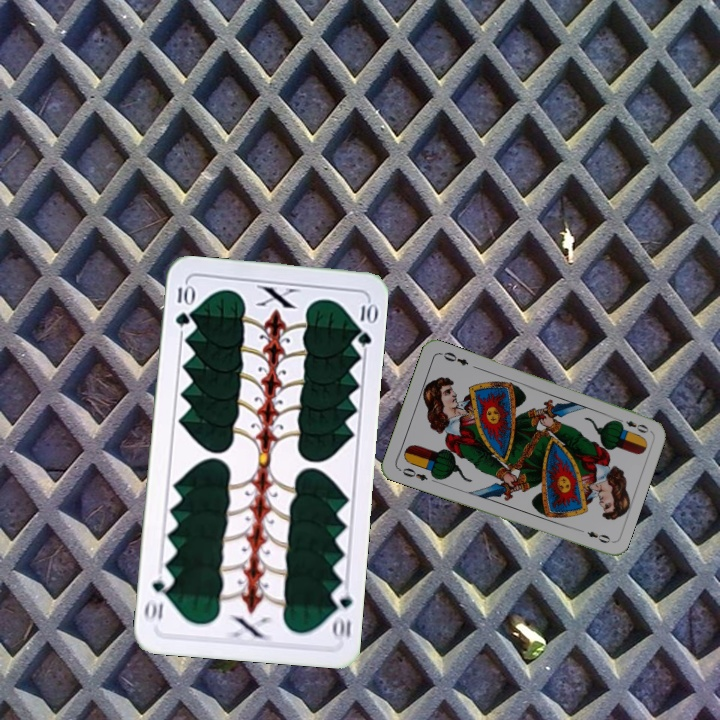EO: (612, 414, 651, 436), (395, 464, 430, 483)
G10: (327, 583, 355, 643), (171, 280, 194, 330)
